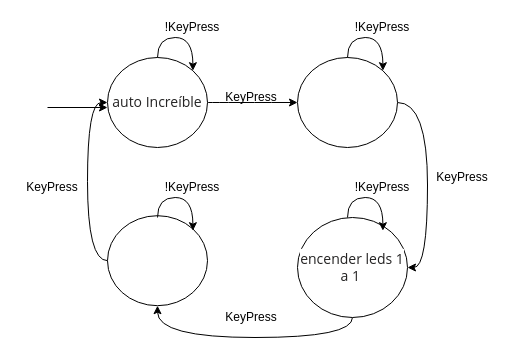
The diagram is 514 pixels wide and 355 high, and some of its shapes have lost their labels. The box of each missing label's shape, as (x1, y1, x2, y2) in pixels:
efecto libre: (106, 215, 208, 306)
encienden y apagan leds: (296, 56, 398, 148)
